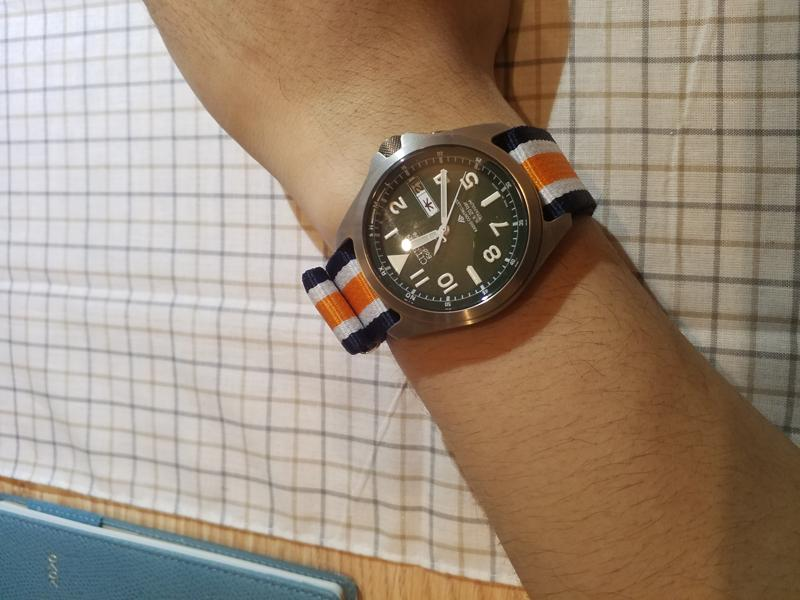watch: (303, 113, 602, 356)
